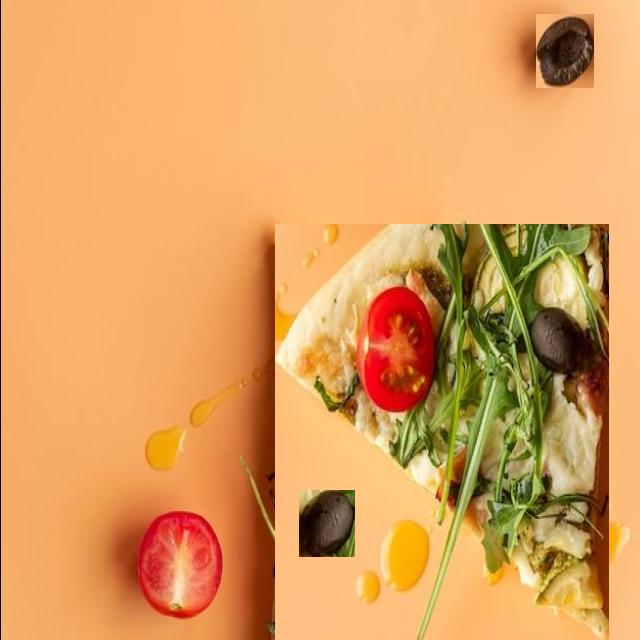olive: (535, 14, 593, 88), (298, 490, 354, 557)
pizza: (274, 224, 608, 640)
